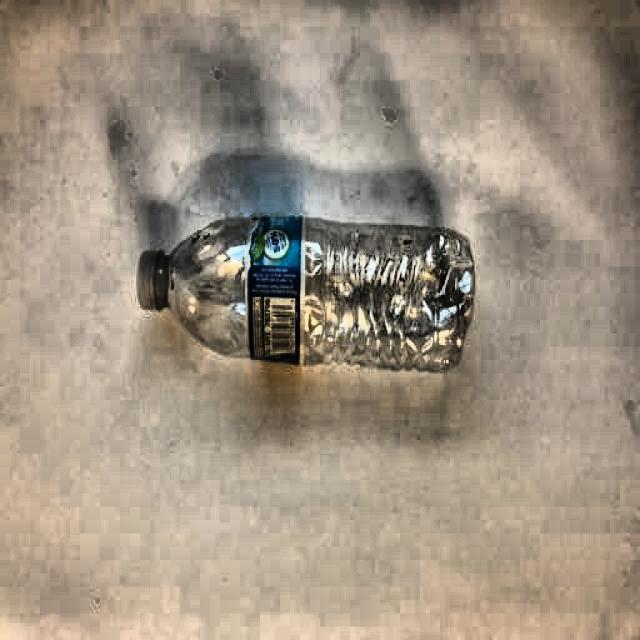plastic: (138, 213, 474, 377)
